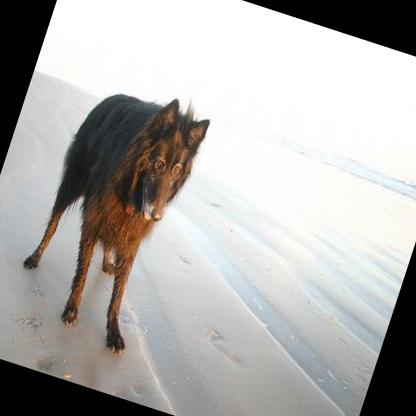groenendael: (4, 67, 216, 363)
